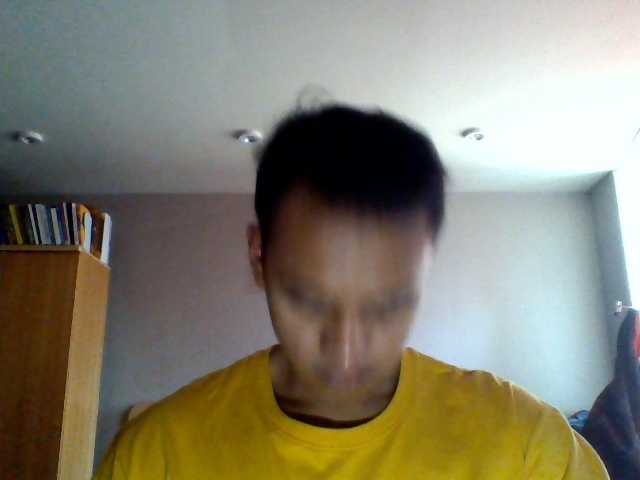no_mask: (263, 323, 421, 391)
